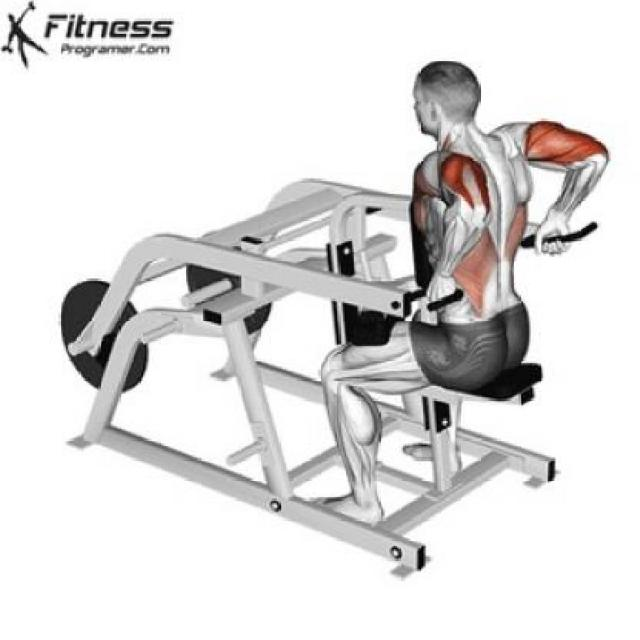seated dip machine: (51, 47, 622, 576)
